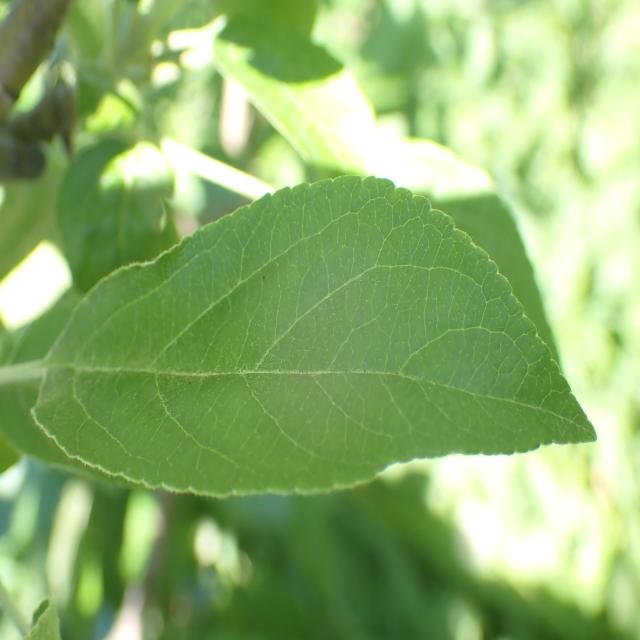healthy: (27, 173, 598, 498)
